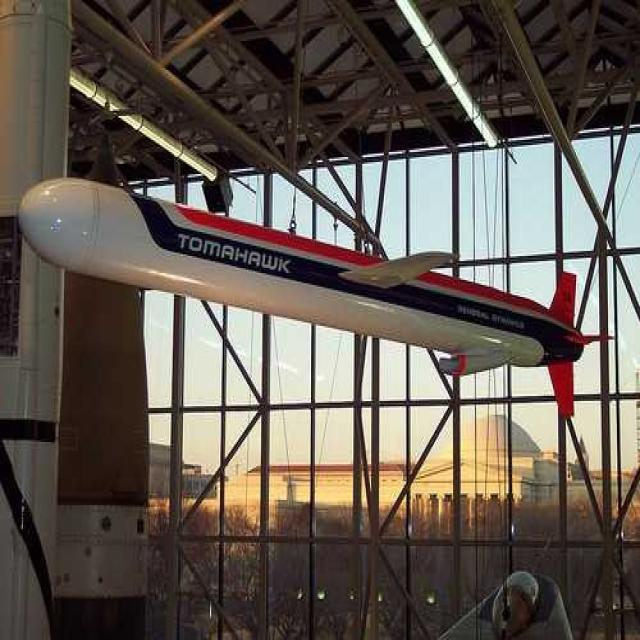missile: (18, 175, 581, 413)
